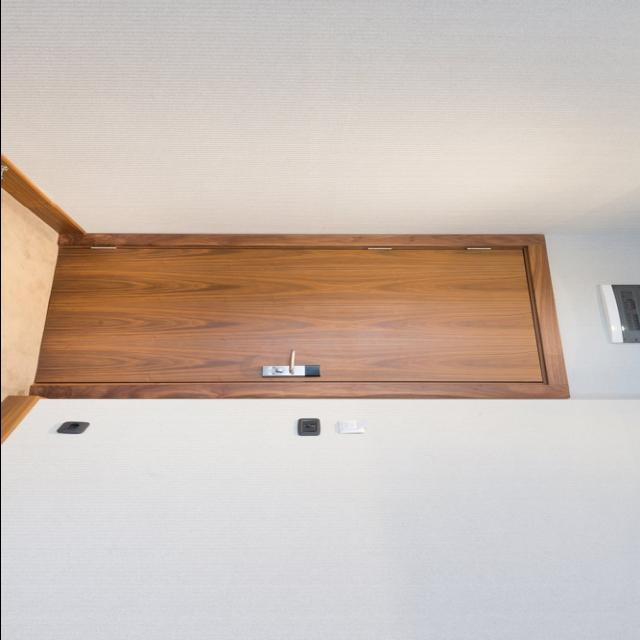close: (42, 244, 538, 396)
